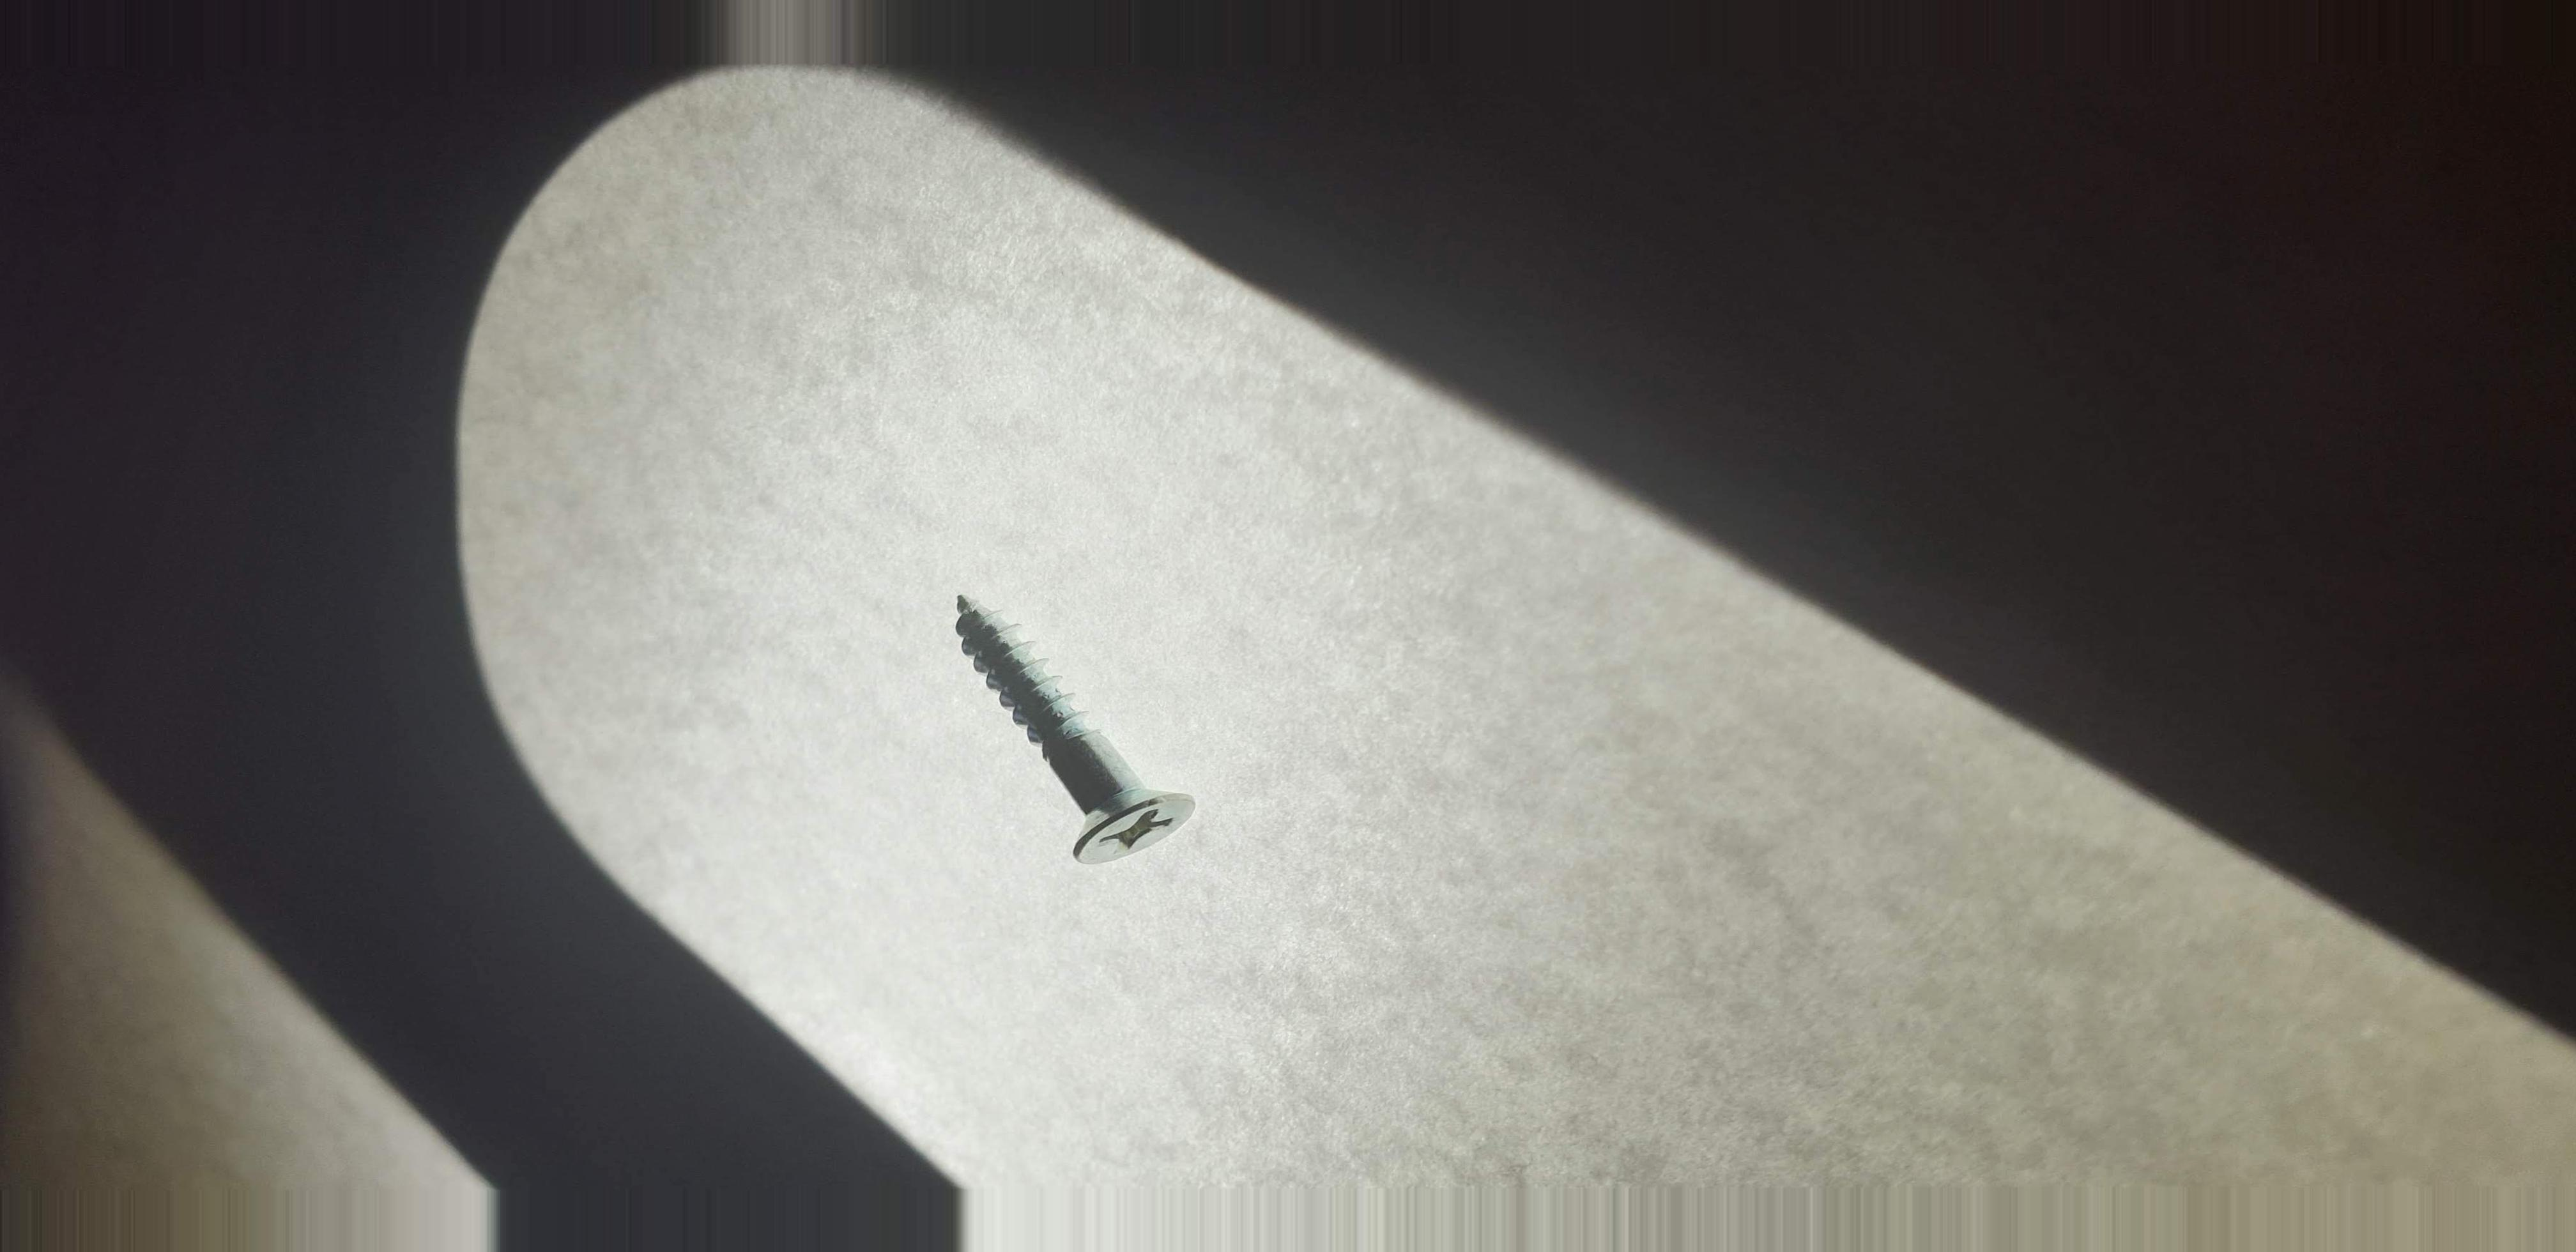S005: (897, 544, 1235, 904)
